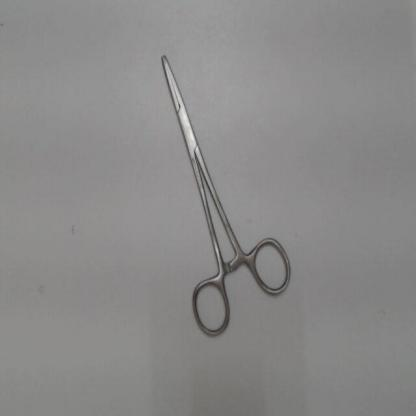Mayo Needle Holder: (148, 27, 302, 345)
